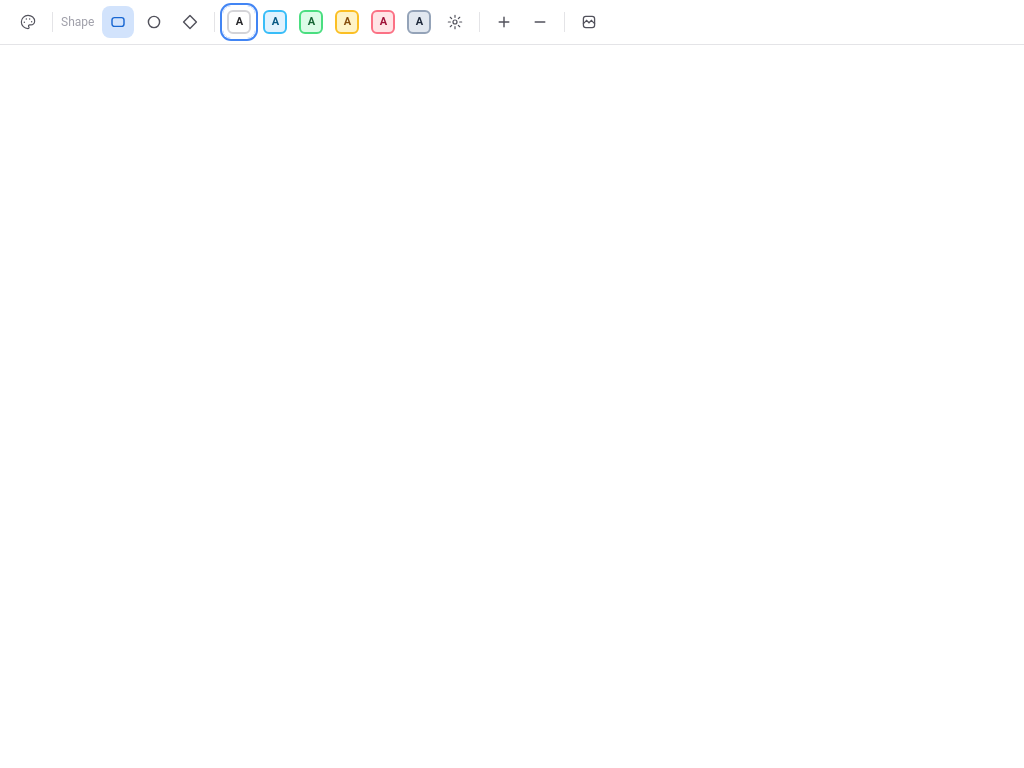
Scenario: MindmapStyleToolbar — advanced colours › closes on Escape
Click the button named "Advanced colours".
click(455, 22)  # box [439, 6, 471, 38]
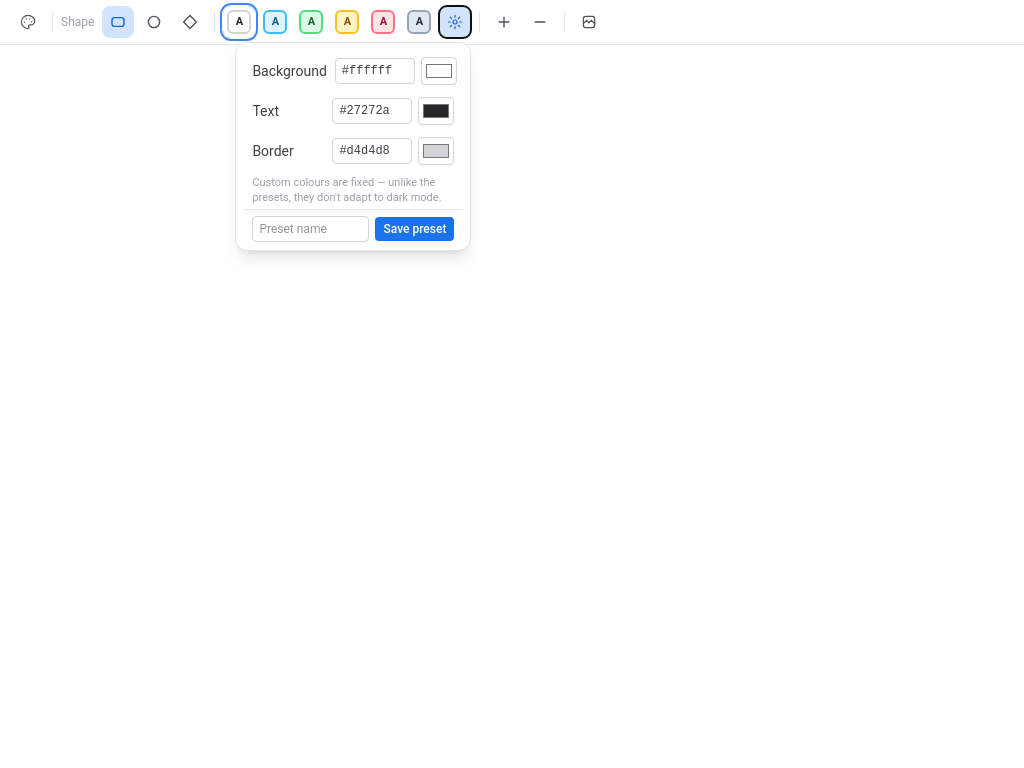
Press Escape
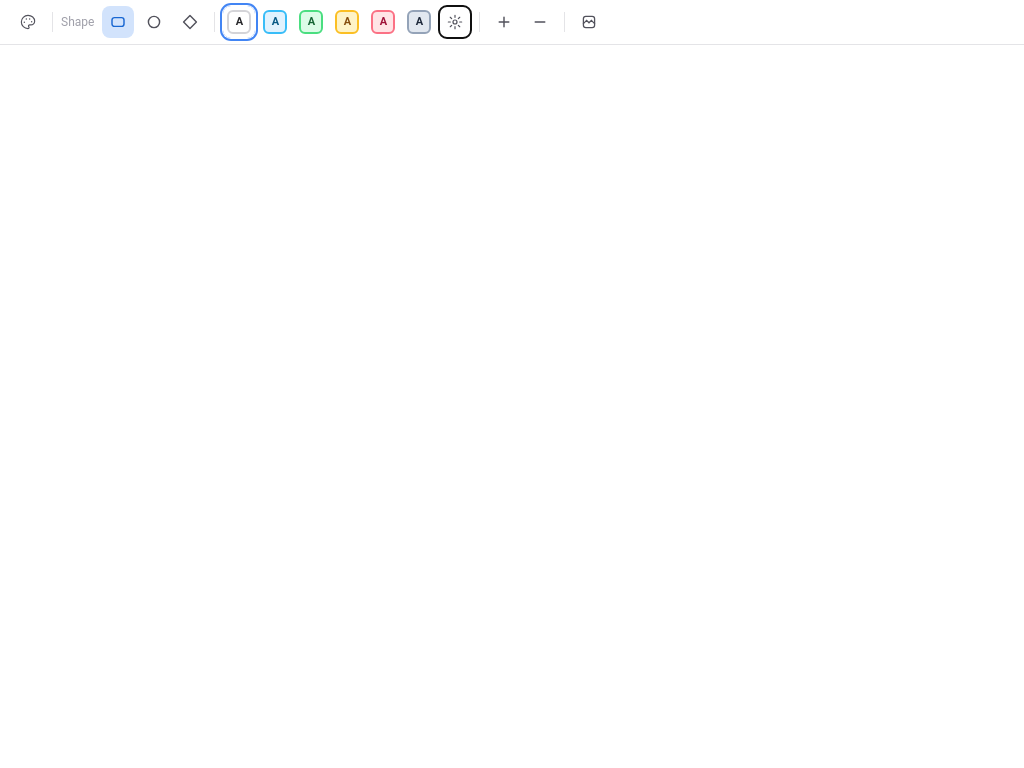
Now the dialog is gone
